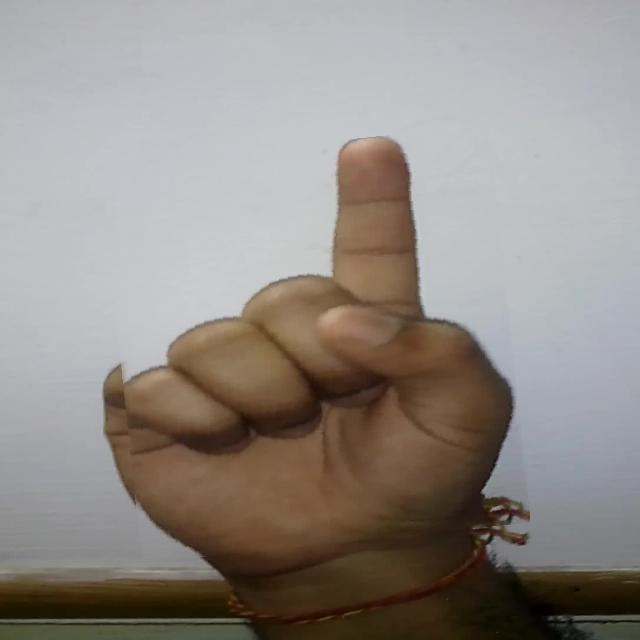I: (110, 135, 521, 553)
